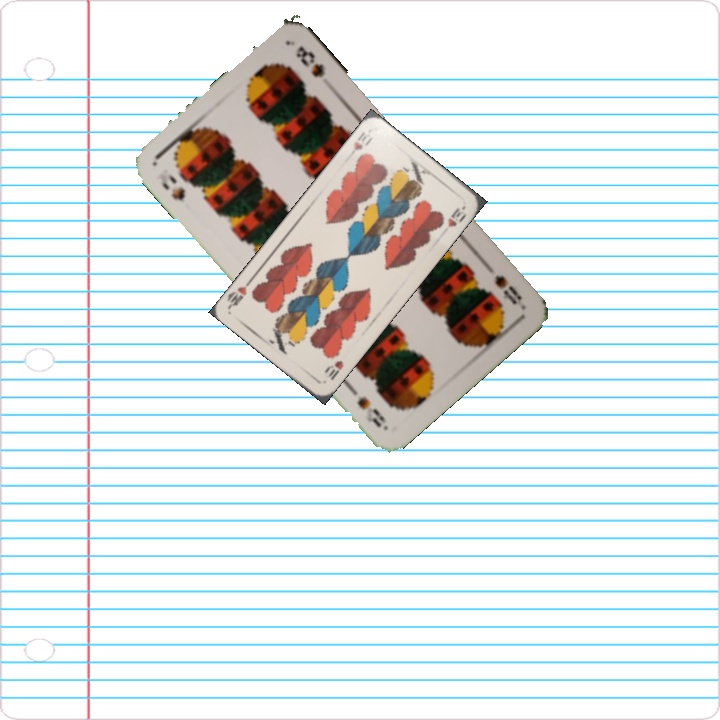H10: (321, 356, 346, 383), (349, 128, 375, 153)
S8: (490, 270, 525, 307), (157, 170, 188, 203)
